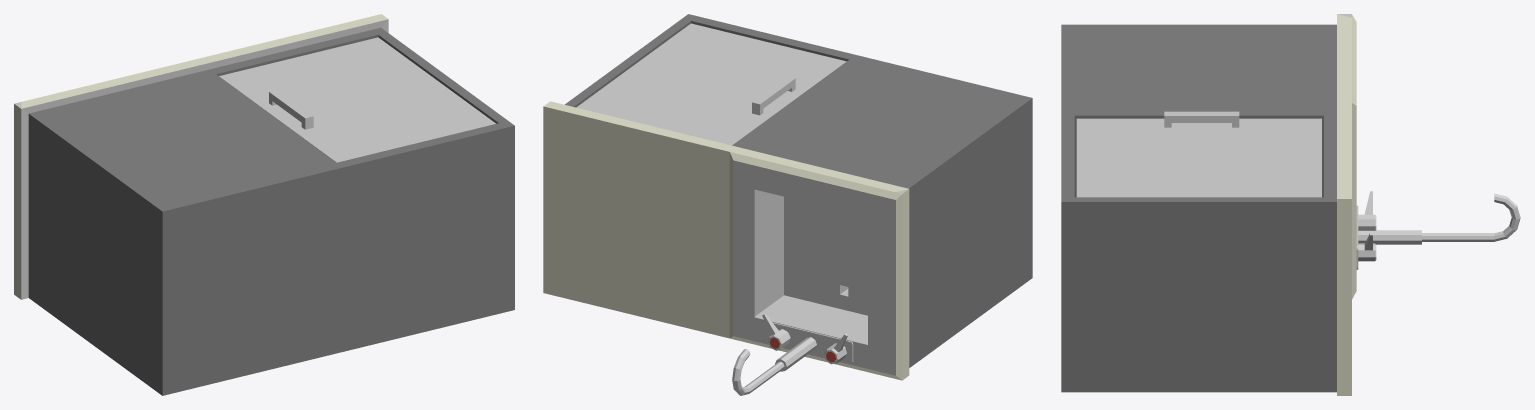
File: MDL_Kitchen_Sink.fbx
3 renders of one model, left to right at view 1: azimuth 30°, elevation 25°; view 2: azimuth 150°, elevation 25°; view 3: azimuth 270°, elevation 25°, orthographic. The views are drawn at different scales.
Parts seen in each view (by area): view 1: Torus, Cube.001; view 2: Torus, Cube.001, Cylinder.004; view 3: Torus, Cube.001, Cylinder.003, Cylinder.004.
Part boxes in pixels (box(x1,y1,x2,y2)): Torus: box(14, 14, 514, 395); Cube.001: box(219, 37, 495, 162); Torus: box(543, 14, 1032, 395); Cube.001: box(576, 23, 846, 145); Cylinder.004: box(762, 314, 790, 350); Torus: box(1061, 14, 1520, 395); Cube.001: box(1076, 111, 1321, 197); Cylinder.003: box(1358, 191, 1376, 230); Cylinder.004: box(1358, 233, 1376, 261).
Bounding box in the file's own units: 417 × 210 × 438.
